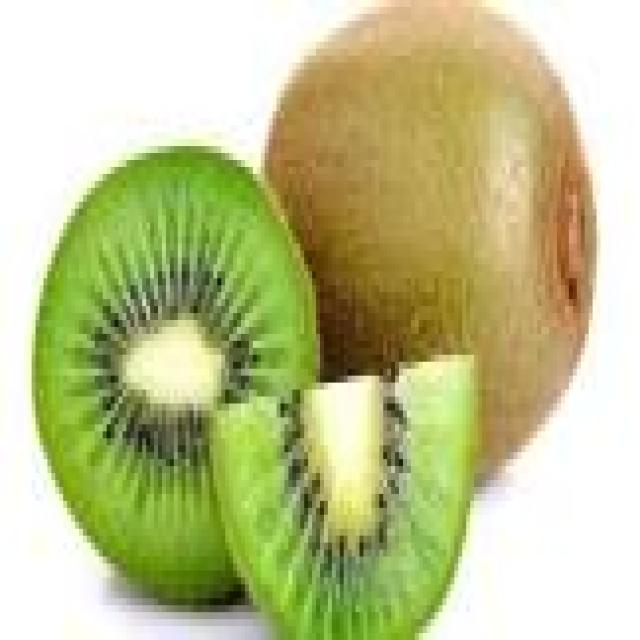kivi: (266, 4, 595, 471), (35, 147, 316, 601), (211, 354, 478, 638)
